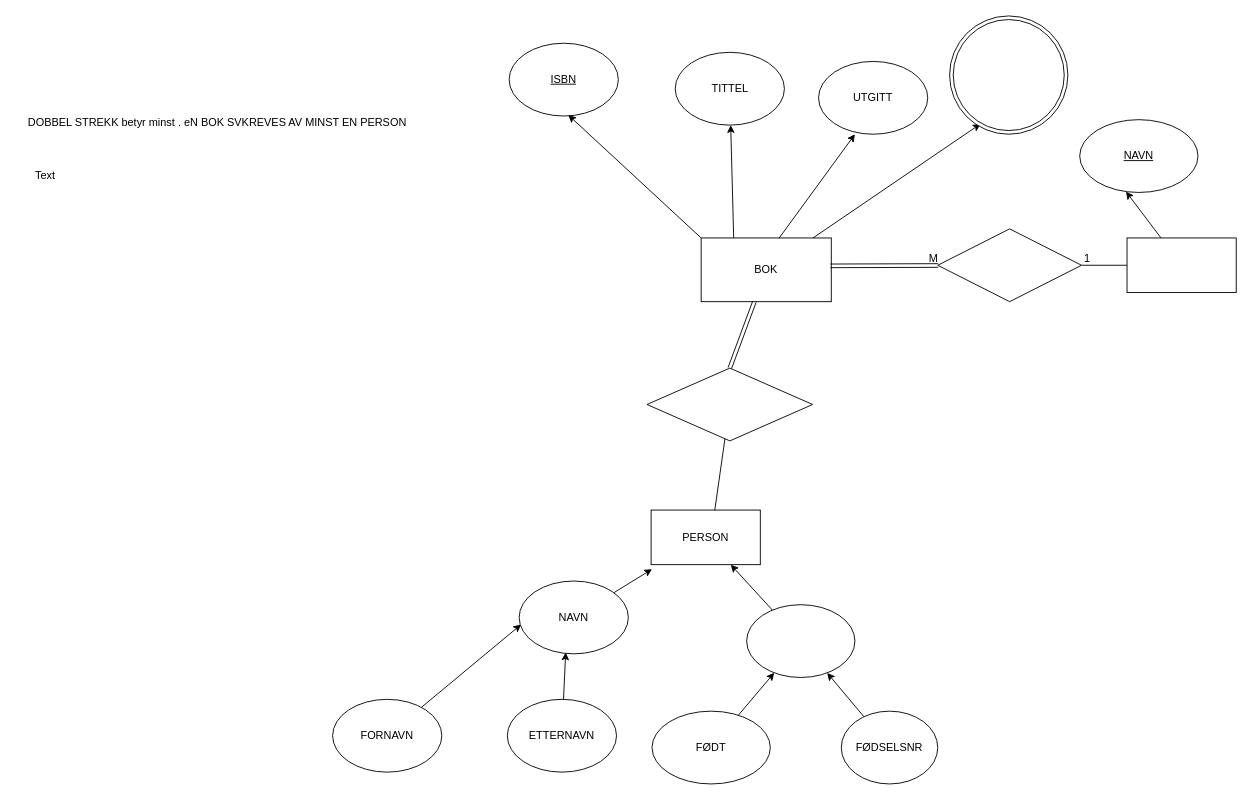
Some shapes in this 1252 by 800 pixel diagram are drawn without their labels. The centre of each missing label's shape, as x and y in pixels:
"FORLAG" goes at (x=1181, y=265).
"PERSONNR" goes at (x=800, y=640).
"SJANGER(kan ha flere attributer)" goes at (x=1008, y=74).
"SKREVET_AV" goes at (x=729, y=404).
"UTGITT_AV" goes at (x=1009, y=265).
